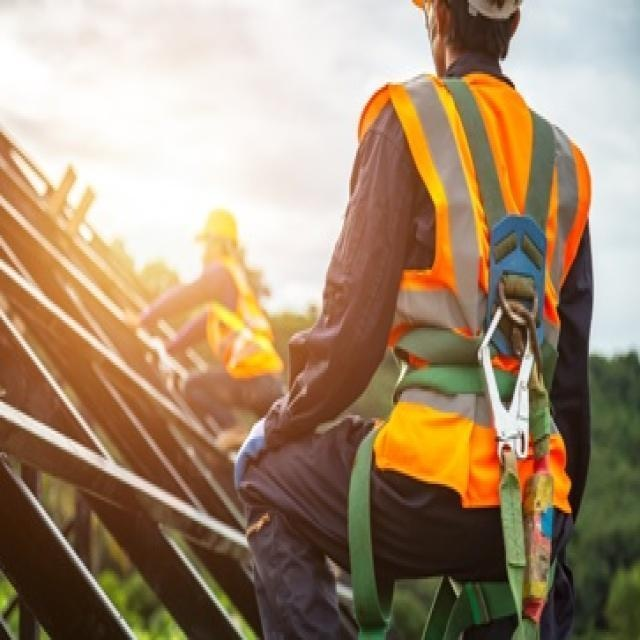Arnes_seguridad: (439, 80, 572, 457)
